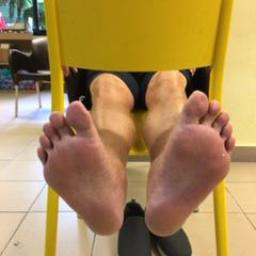Plantar View -Both Feet-: (17, 70, 245, 246)
